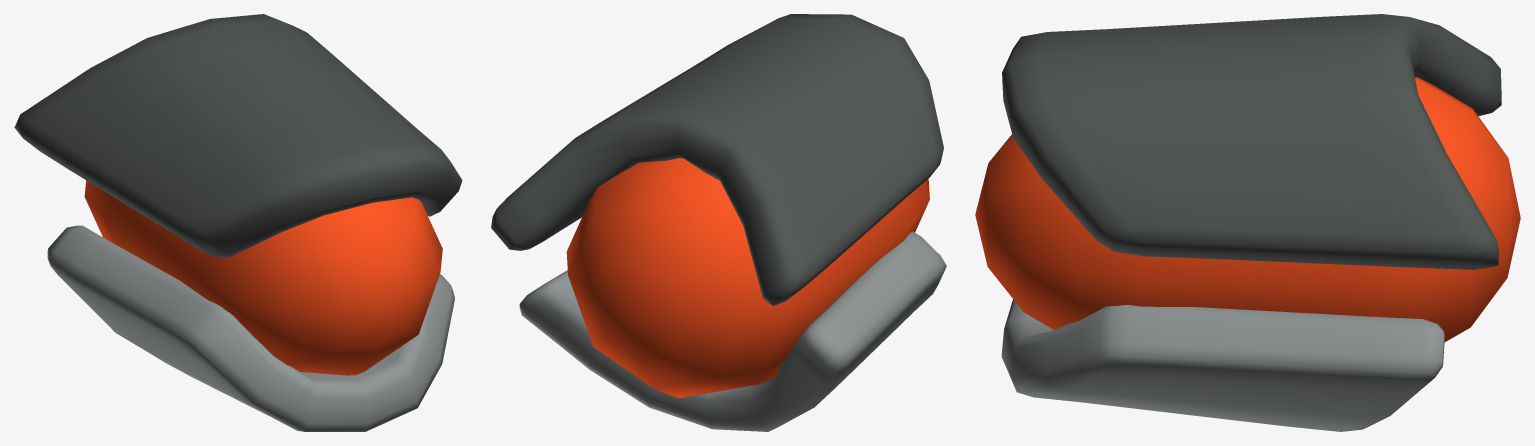
The model's file is xsens_RightFifthMP.dae.
3 views of the same model, side by side, from view 1: azimuth 30°, elevation 25°; view 2: azimuth 150°, elevation 25°; view 3: azimuth 270°, elevation 25° (orthographic). The views are drawn at different scales.
Visible parts, largest first — view 1: RightFifthMP; view 2: RightFifthMP; view 3: RightFifthMP.
Part boxes in pixels (x1,y1,x2,y2): RightFifthMP: (14,14,462,431); RightFifthMP: (491,14,946,431); RightFifthMP: (975,14,1520,431).
Size of the model in its own units: 0.0186 by 0.0238 by 0.0182.
